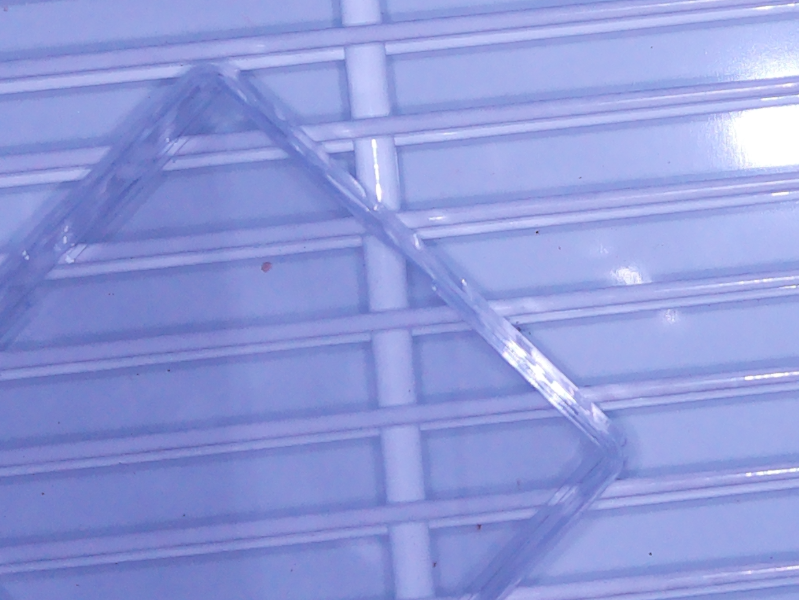plate: (1, 64, 628, 600)
